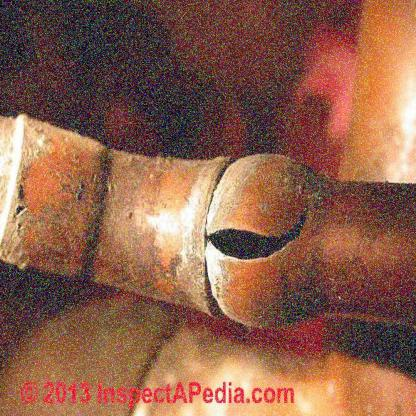burst: (191, 208, 331, 279)
